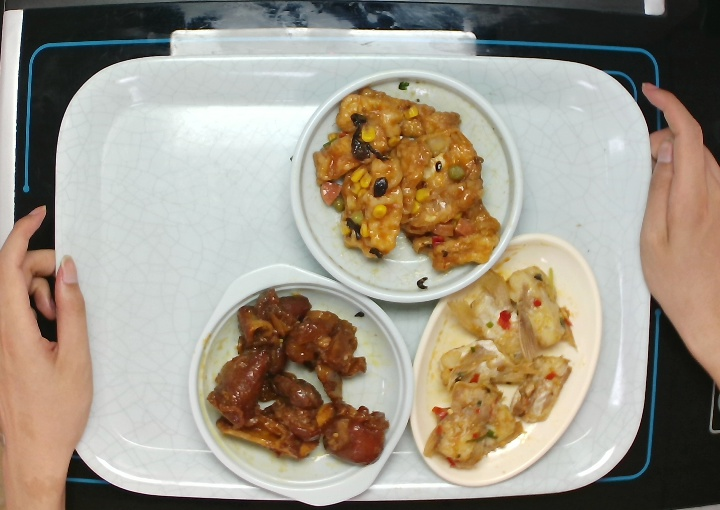JYsf-Shuang_Er_Pan: (182, 256, 417, 510)
JYsf-Tuo_Yuan_Wan: (407, 231, 605, 490)
JYsf-Xiao_Yuan_Pan: (281, 63, 528, 310)
